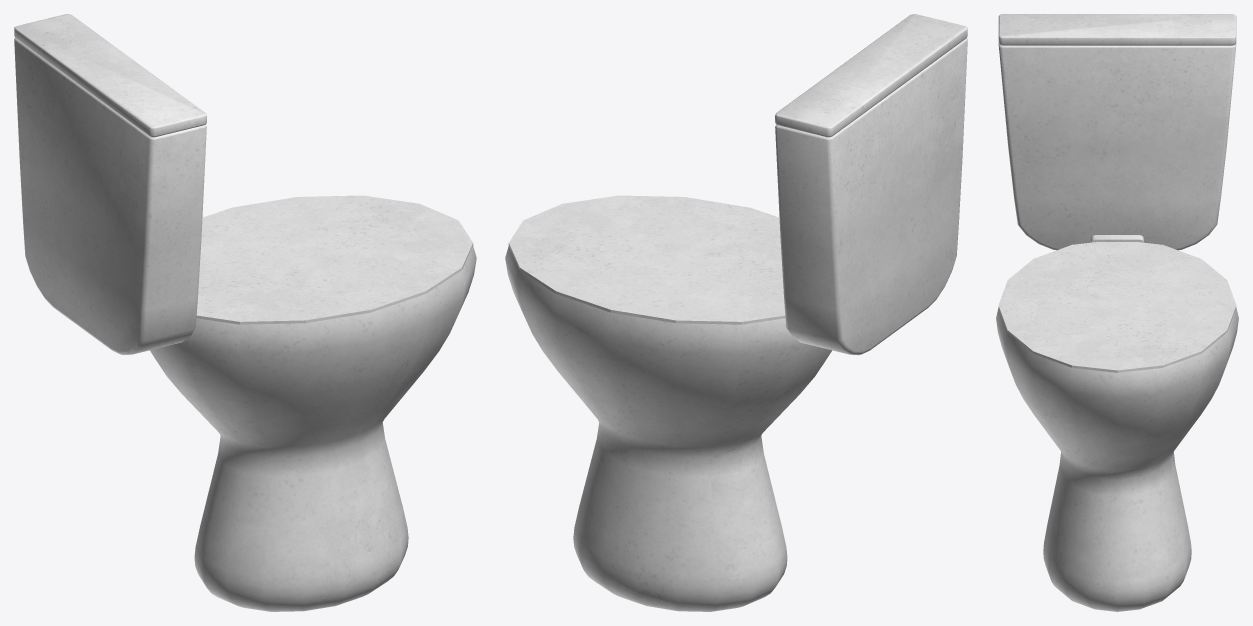
The model's file is toilet.obj.
3 views of the same model, side by side, from view 1: azimuth 30°, elevation 25°; view 2: azimuth 150°, elevation 25°; view 3: azimuth 270°, elevation 25° (orthographic). The views are drawn at different scales.
Parts seen in each view (by area): view 1: toilet, toilet_lid; view 2: toilet, toilet_lid; view 3: toilet, toilet_lid.
Part boxes in pixels (<box>): toilet: <box>14,14,476,611</box>; toilet_lid: <box>196,195,473,324</box>; toilet: <box>505,14,967,611</box>; toilet_lid: <box>508,195,785,324</box>; toilet: <box>996,14,1238,611</box>; toilet_lid: <box>998,242,1236,372</box>.
Bounding box in the file's own units: 0.7077 × 1.01 × 0.4595.
Materials: 1 (1 with a texture image).
